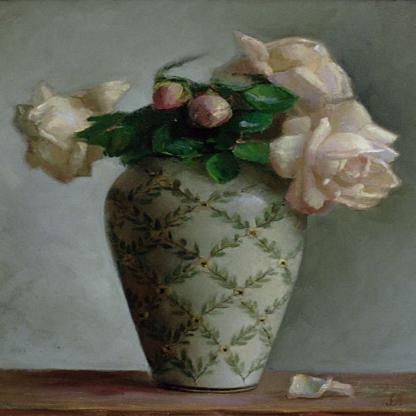vase: (105, 154, 309, 392)
